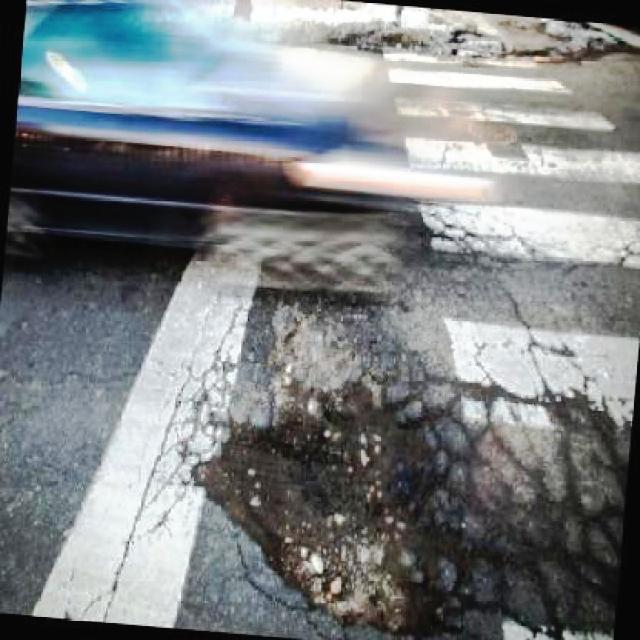pothole: (192, 375, 474, 640)
